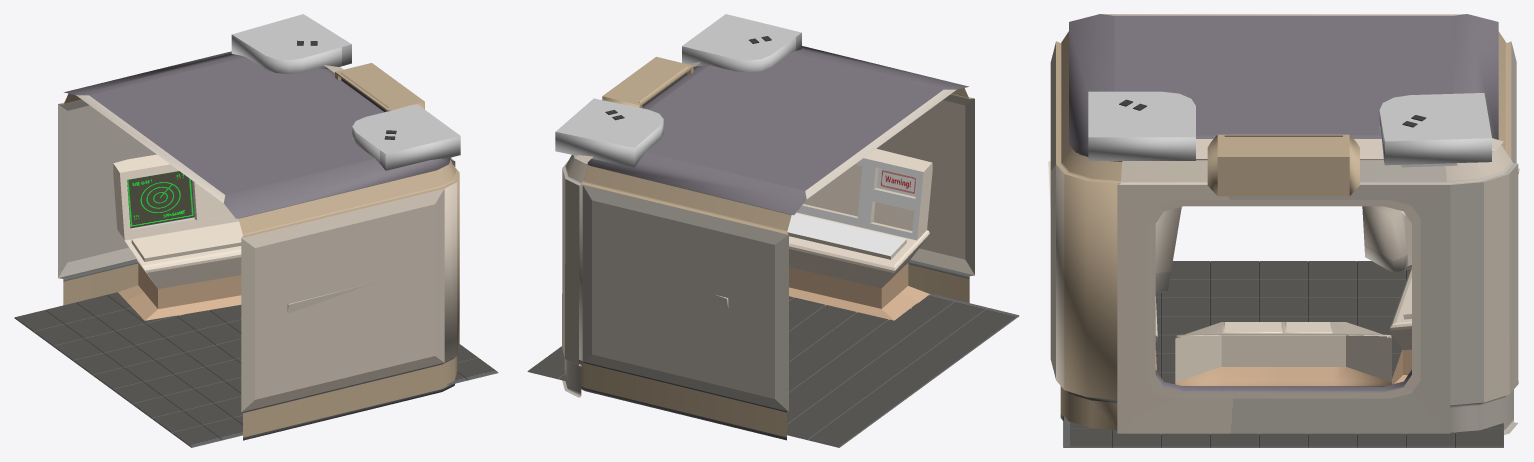
File: Room_Geometry.glb
3 views of the same model, side by side, from view 1: azimuth 30°, elevation 25°; view 2: azimuth 150°, elevation 25°; view 3: azimuth 270°, elevation 25° (orthographic). The views are drawn at different scales.
Parts seen in each view (by area): view 1: Room, SideConsole.001, Cube.001, Cube, IndicatorLight_Base, SideConsole; view 2: Room, SideConsole, Cube.001, Cube, IndicatorLight_Base; view 3: Room, MainConsole, IndicatorLight_Base, Cube.001, Cube, Terminal.001, Terminal, SideConsole.001.
Part boxes in pixels (x1,y1,x2,y2): Room: (14,51,498,447); SideConsole.001: (113,154,242,320); Cube.001: (231,14,351,73); Cube: (352,104,460,170); IndicatorLight_Base: (335,63,424,111); SideConsole: (287,283,373,313); Room: (527,46,1019,447); SideConsole: (787,148,932,320); Cube.001: (555,98,663,167); Cube: (682,14,801,72); IndicatorLight_Base: (602,56,693,108); Room: (1050,14,1518,447); MainConsole: (1175,322,1391,386); IndicatorLight_Base: (1207,134,1359,196); Cube.001: (1379,93,1491,167); Cube: (1088,91,1195,160); Terminal.001: (1362,206,1411,273); Terminal: (1155,207,1181,293); SideConsole.001: (1390,168,1519,384).
Size of the model in its own units: 8.2 by 6.39 by 8.77.
1 material, 1 textured.
